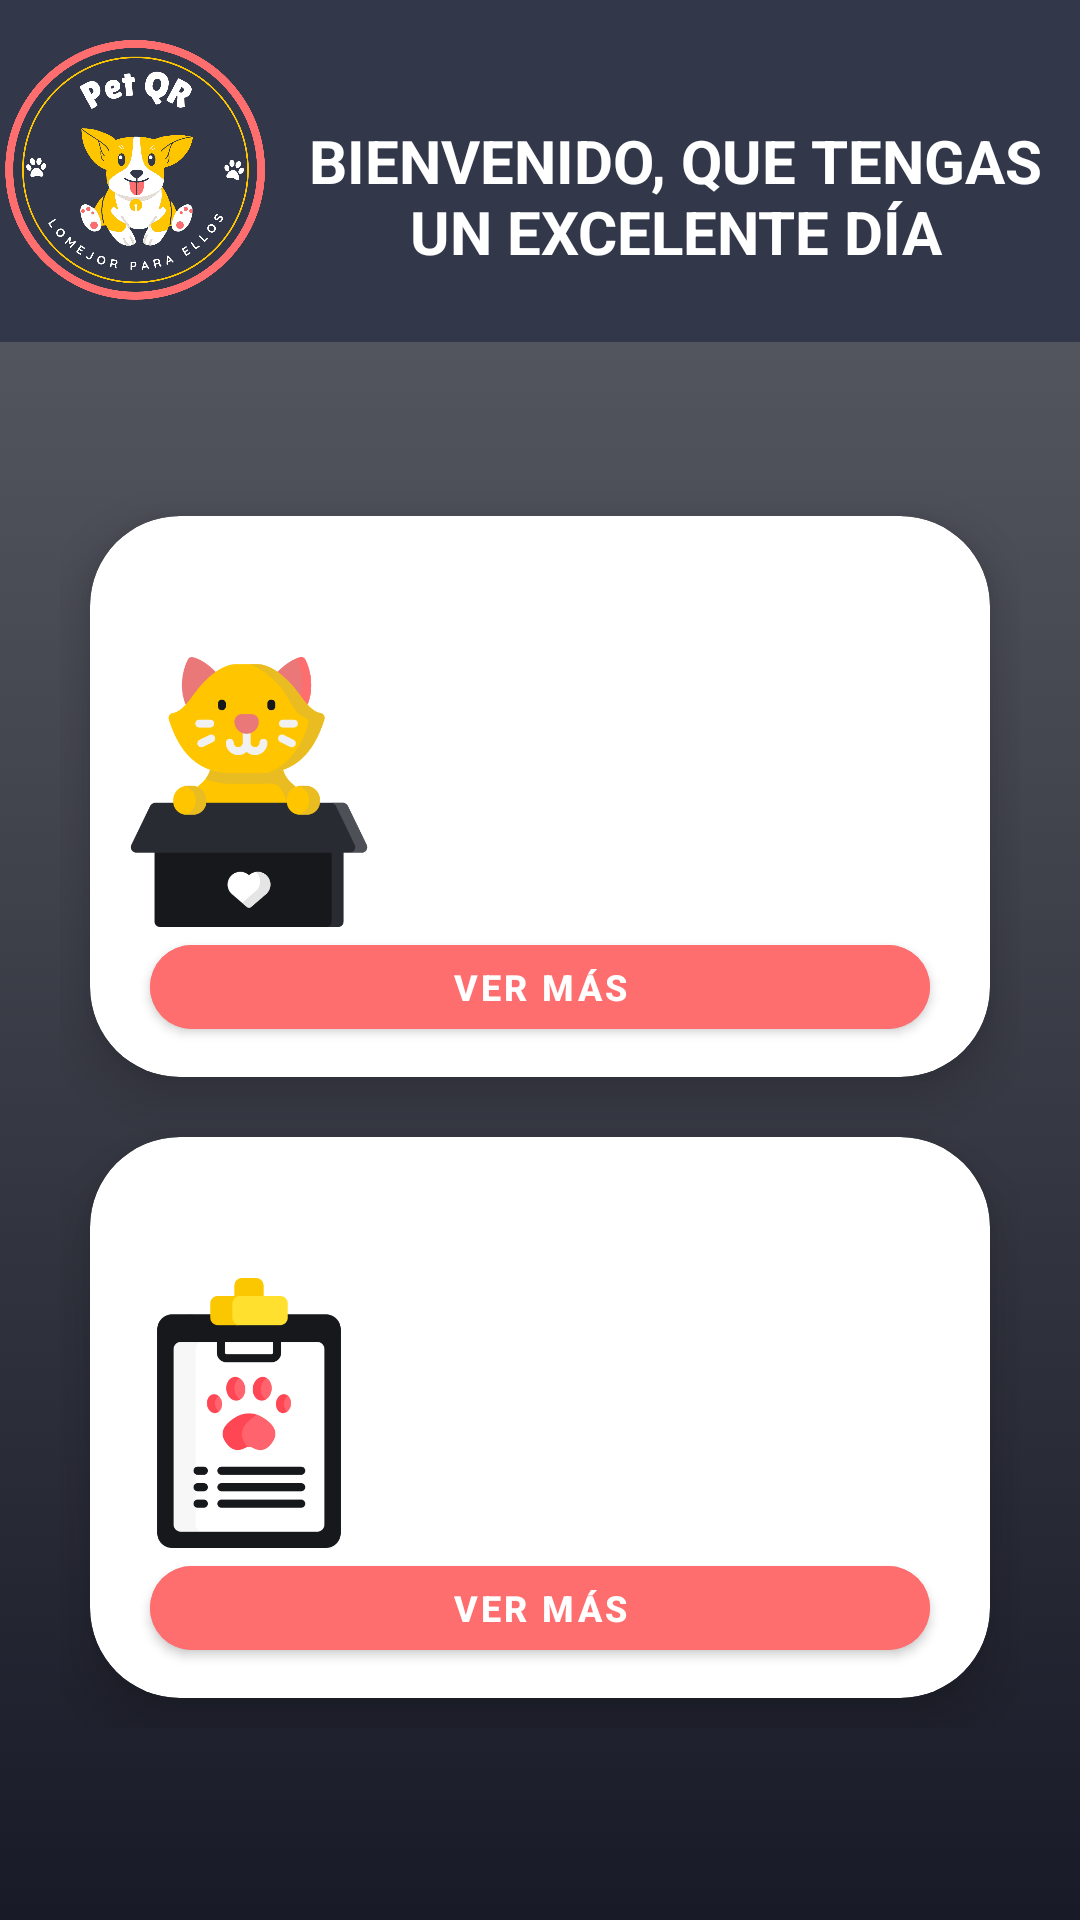

Named icons in this screenshot (1080px×1920px) and their centers, [x,y]:
agrega pet: [249,792]
crud mascotaaa: [249,1413]
